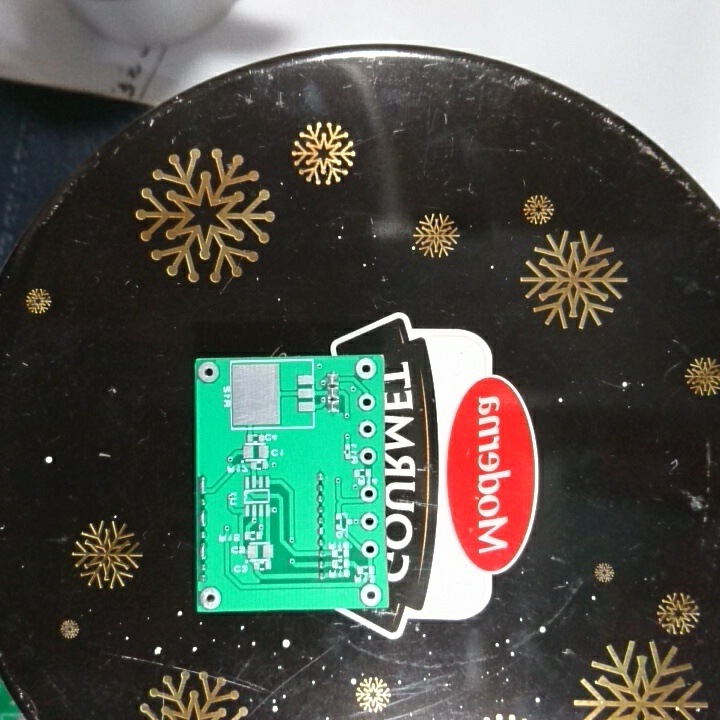F: (194, 358, 221, 386), (357, 580, 383, 606), (198, 585, 224, 610), (353, 358, 379, 381), (357, 481, 379, 505), (356, 391, 379, 413), (359, 509, 379, 534), (357, 417, 378, 440), (356, 444, 377, 466), (359, 538, 379, 560)
P: (196, 472, 208, 496), (197, 540, 208, 562), (197, 509, 209, 529)
